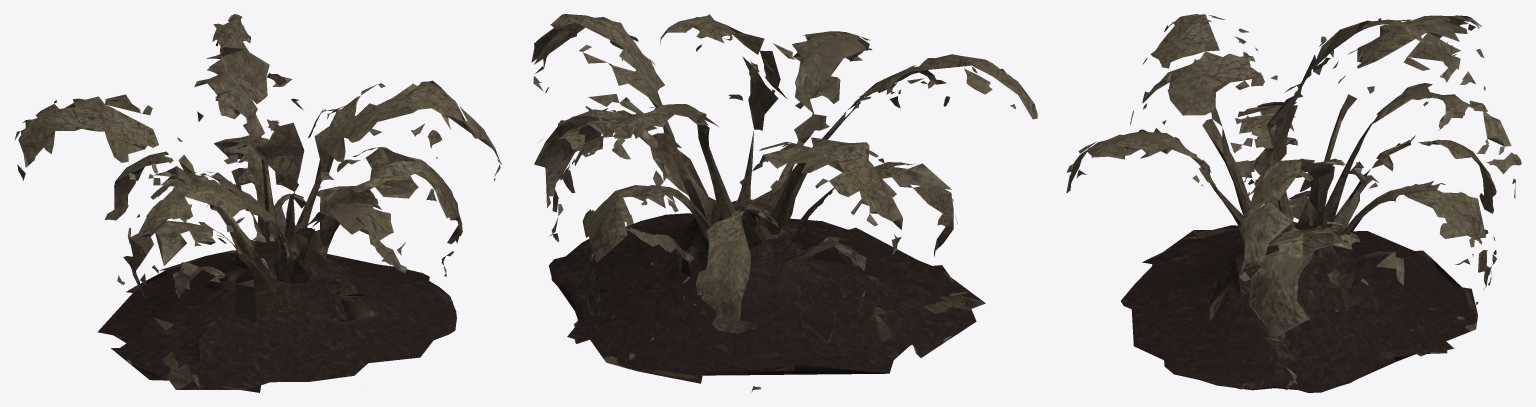
The model's file is b6-bracken.glb.
3 renders of one model, left to right at view 1: azimuth 30°, elevation 25°; view 2: azimuth 150°, elevation 25°; view 3: azimuth 270°, elevation 25°, orthographic. The views are drawn at different scales.
Size of the model in its own units: 1.87 by 1.21 by 1.73.
1 material, 1 textured.
